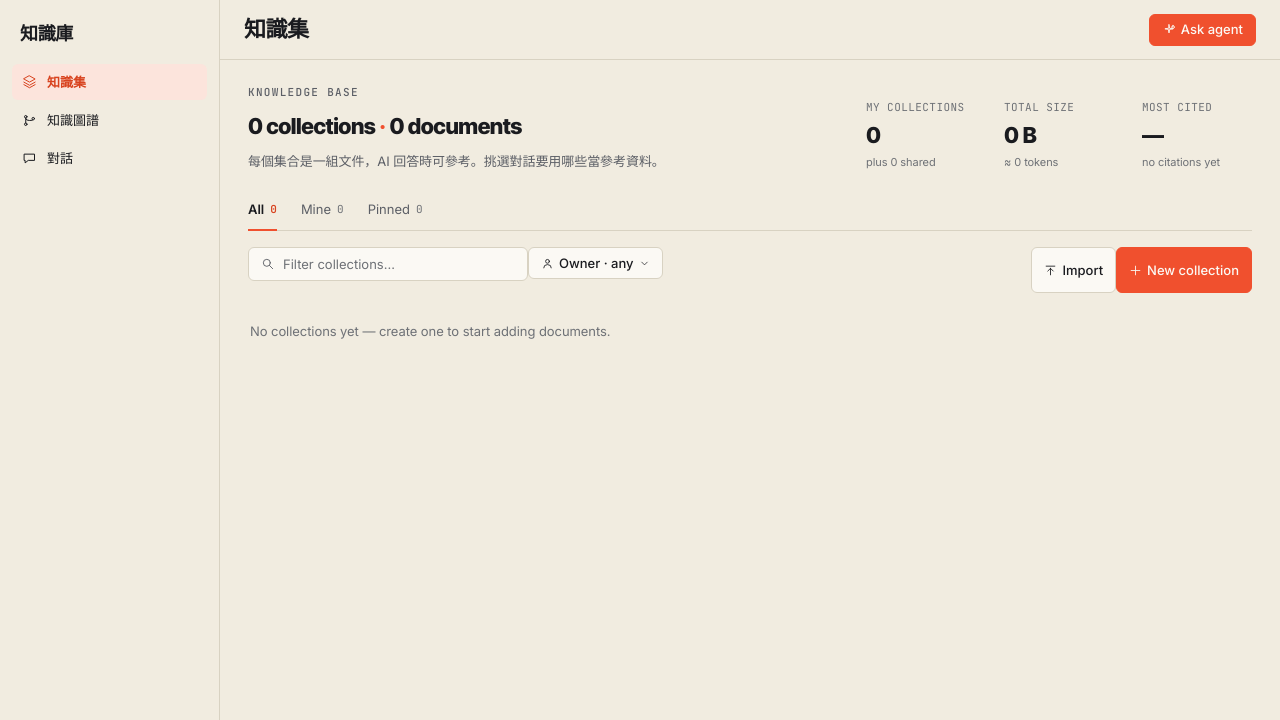
Test case: KbHome shell › reaches the knowledge graph from the KB sidebar
The image size is (1280, 720).
Step 1. Click the button "知識圖譜" → (110,120), box [12,102,207,138]
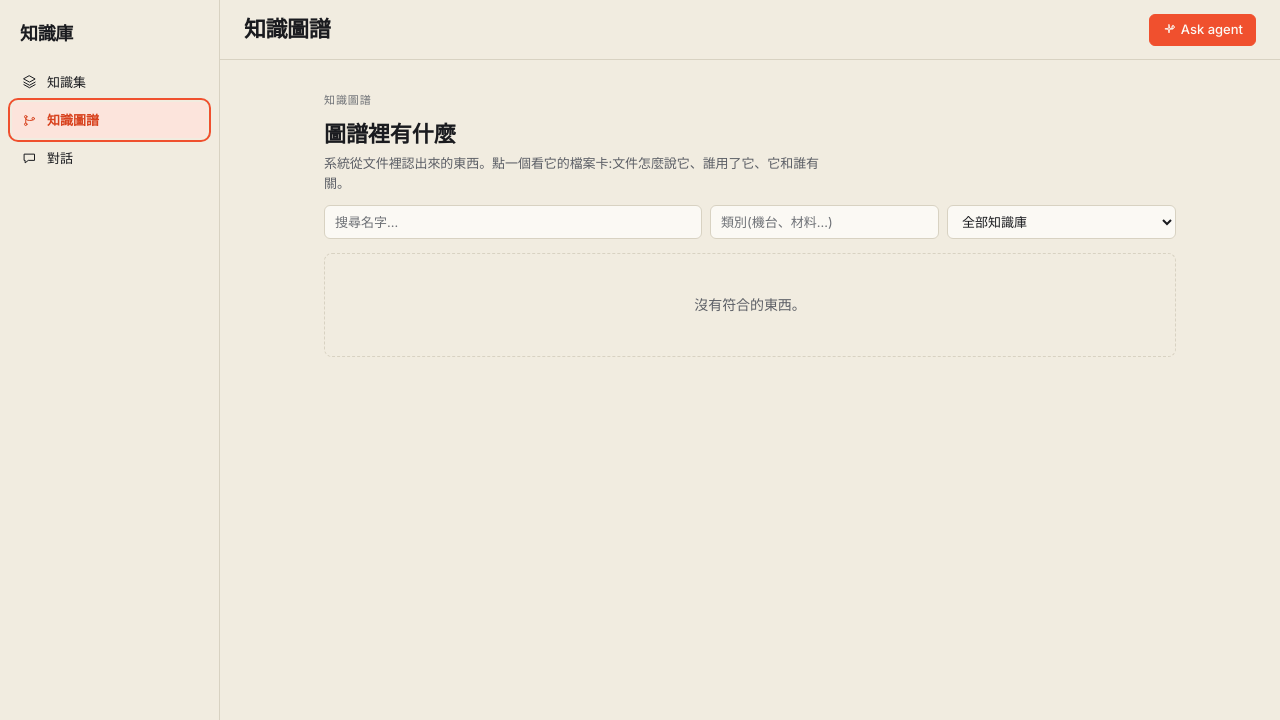
expect the search field with placeholder "搜尋名字…" is shown: met, box [324,205,702,239]
